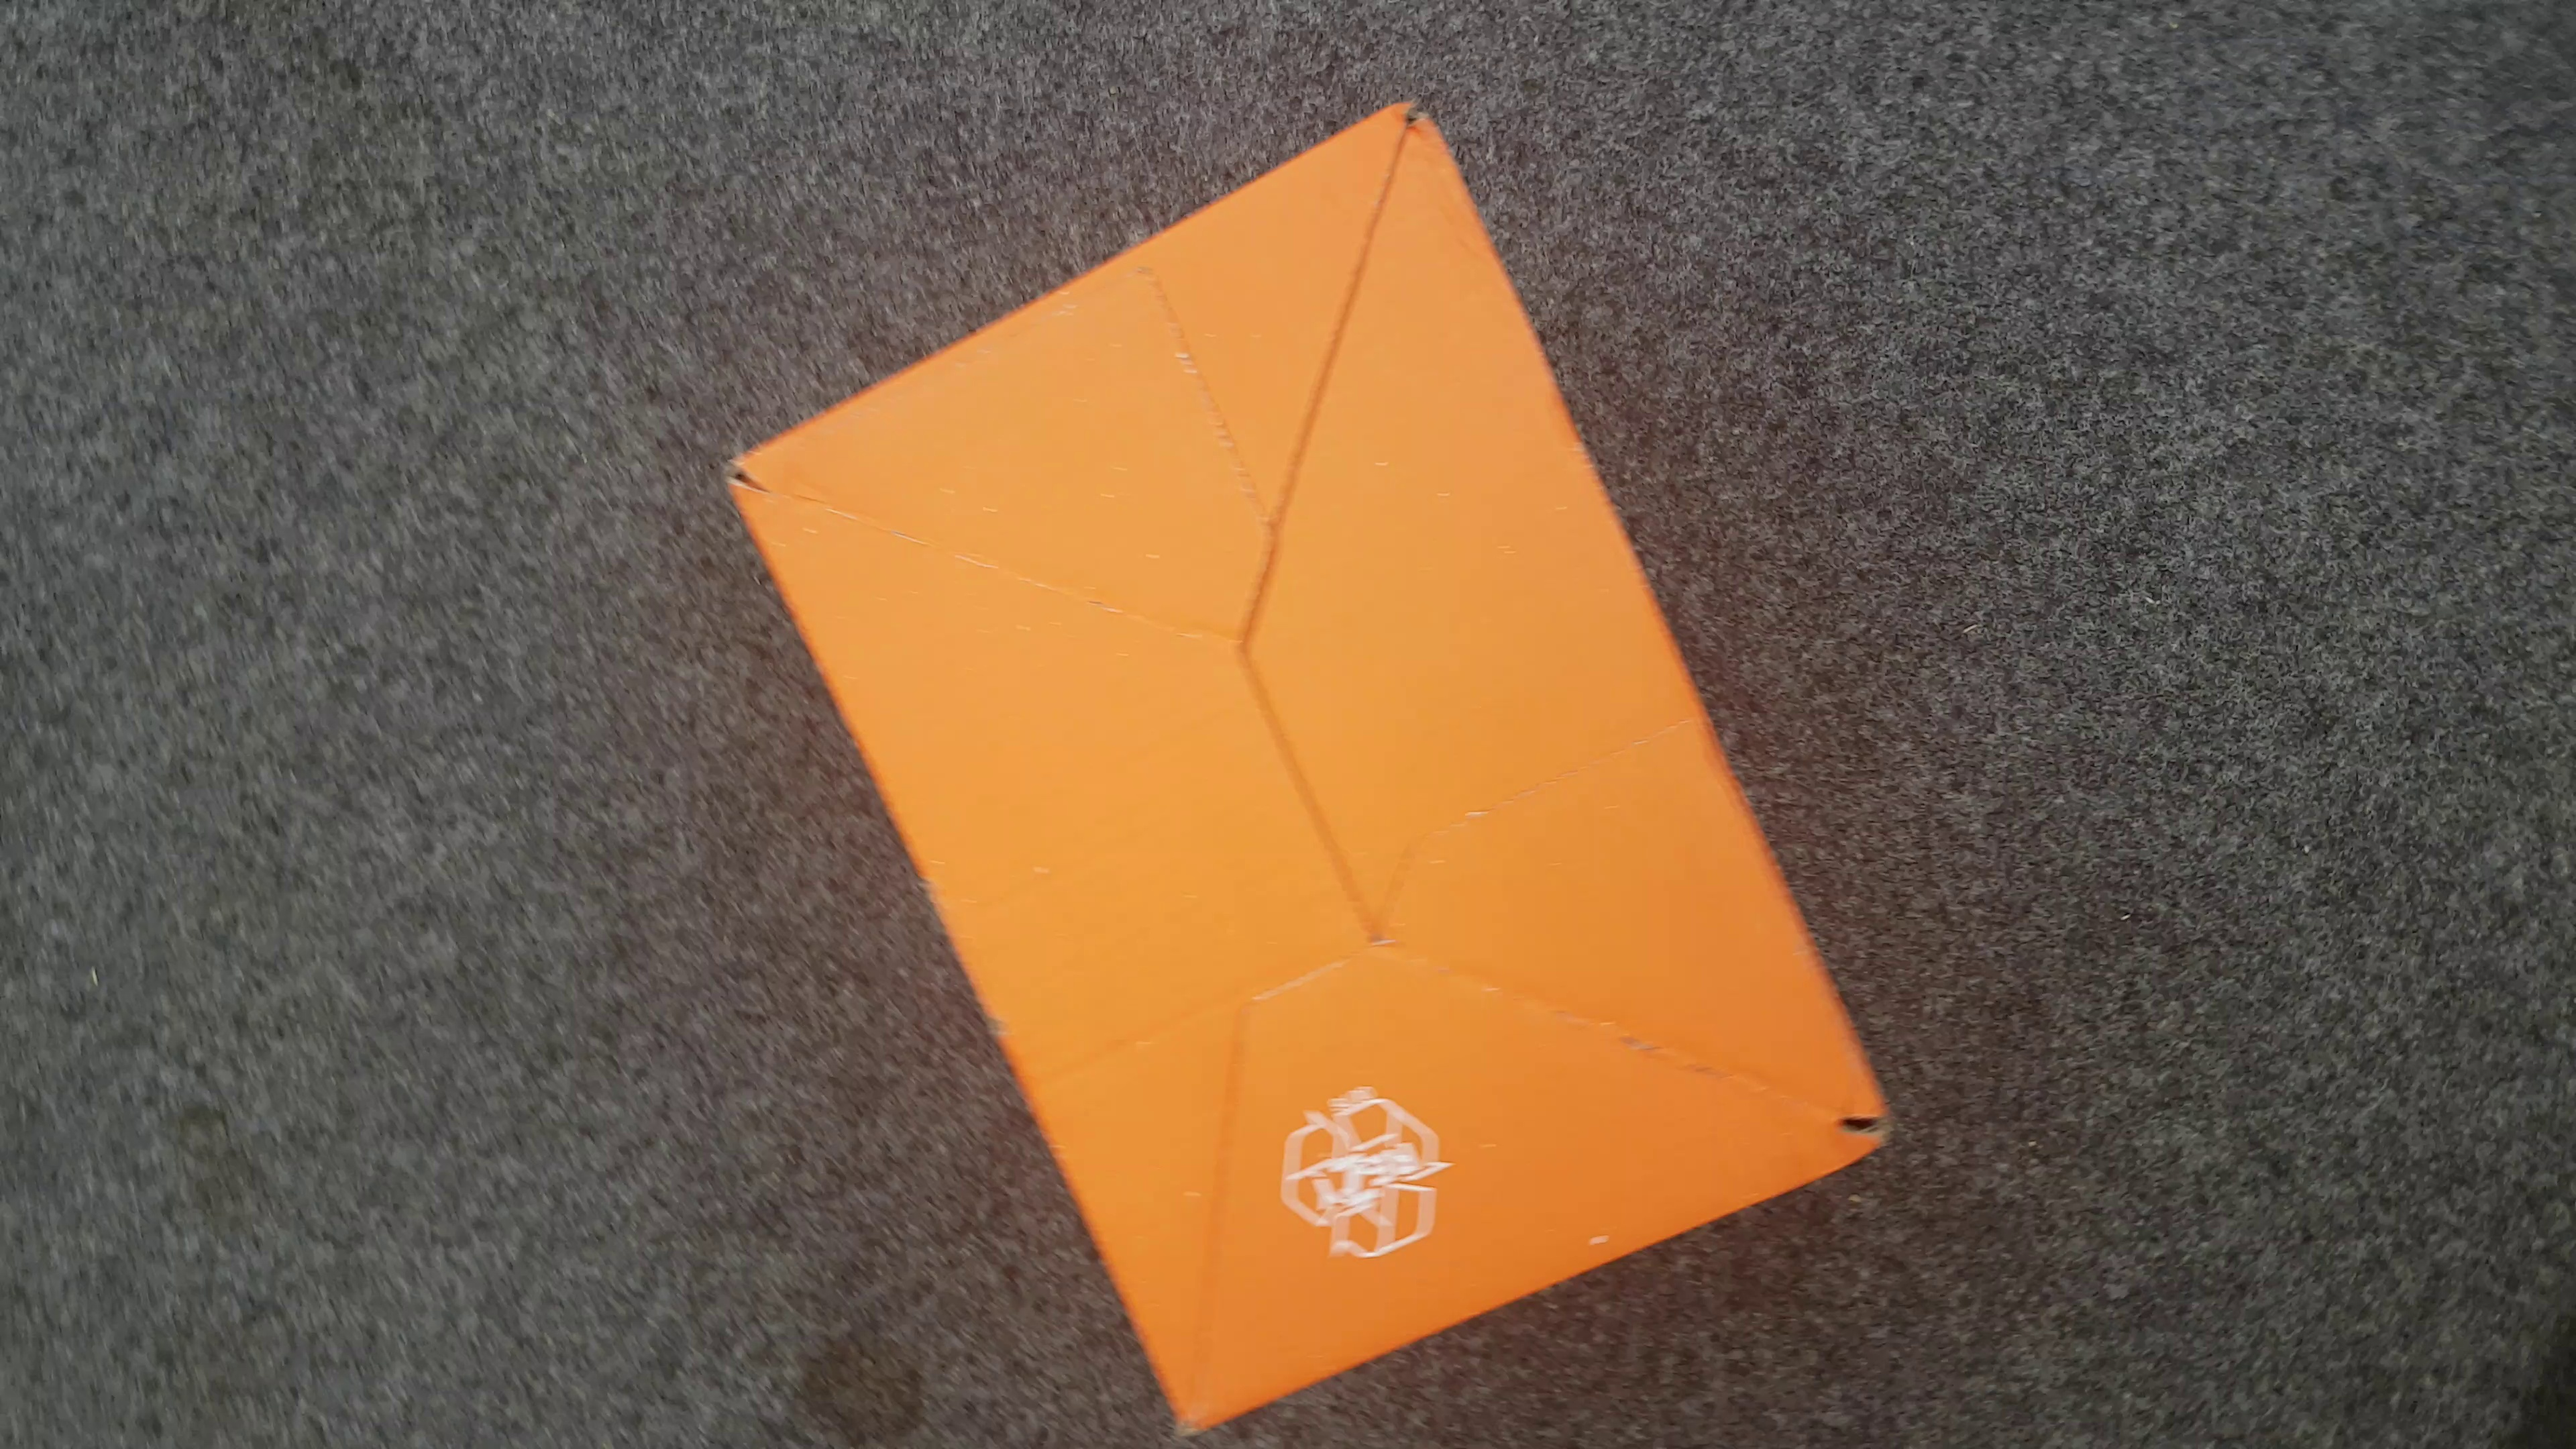push: (729, 97, 1900, 1449)
